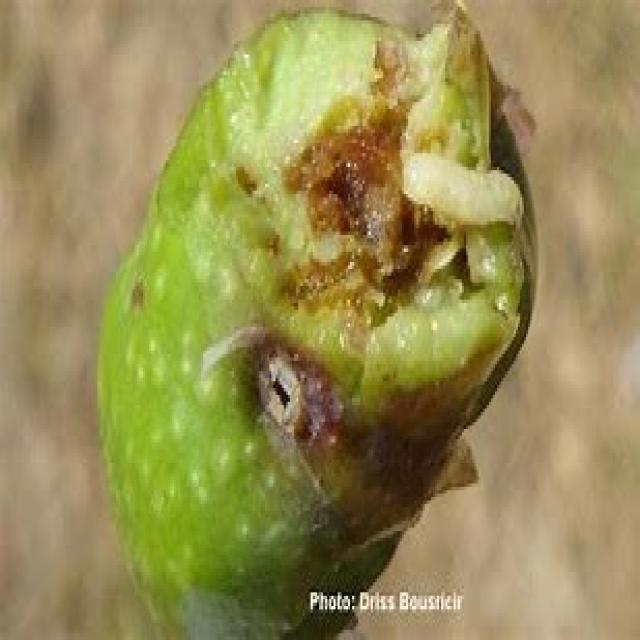Olive Fruit Fly: (97, 3, 530, 637)
